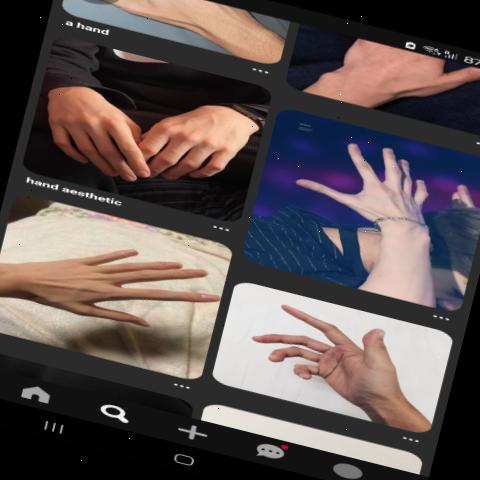hands: (0, 197, 232, 374), (261, 119, 480, 302), (225, 286, 439, 430), (18, 63, 178, 198), (127, 75, 264, 206)
